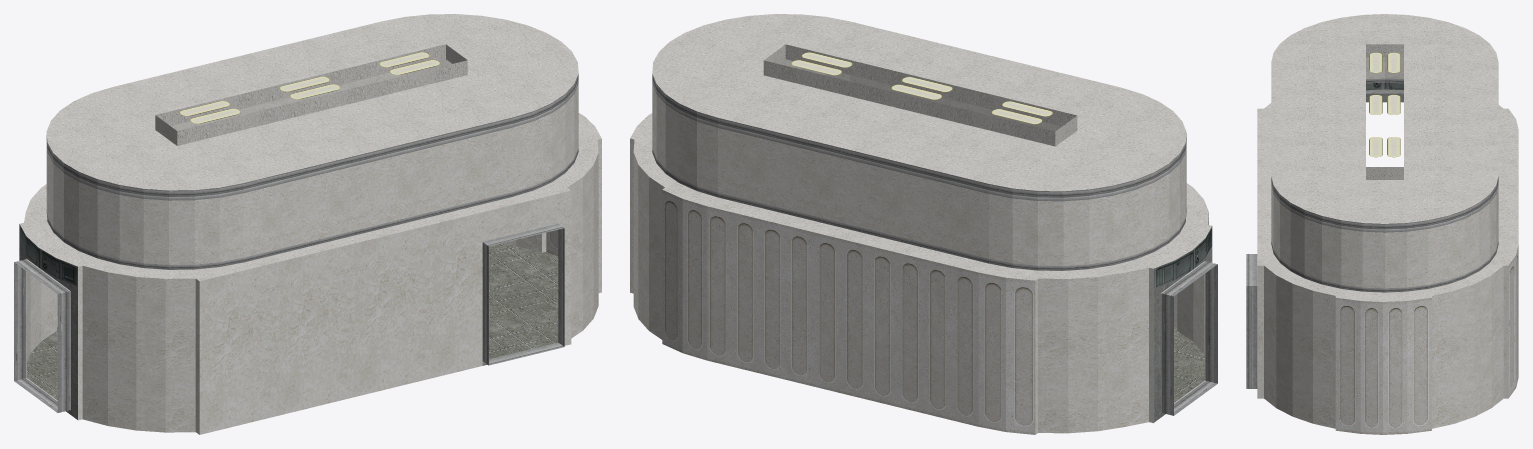
The model's file is ply_all_house_m_s02_fp1_r1_entryway_mesh.fbx.
3 renders of one model, left to right at view 1: azimuth 30°, elevation 25°; view 2: azimuth 150°, elevation 25°; view 3: azimuth 270°, elevation 25°, orthographic. The views are drawn at different scales.
Visible parts, largest first — view 1: mesh_node; view 2: mesh_node; view 3: mesh_node.
Part boxes in pixels (x1,y1,x2,y2): mesh_node: [14, 14, 601, 434]; mesh_node: [630, 14, 1217, 434]; mesh_node: [1246, 14, 1518, 434].
Size of the model in its own units: 14.43 by 6.25 by 7.2.
